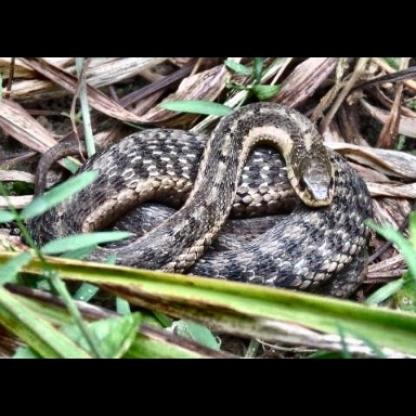Snake: (34, 104, 376, 296)
